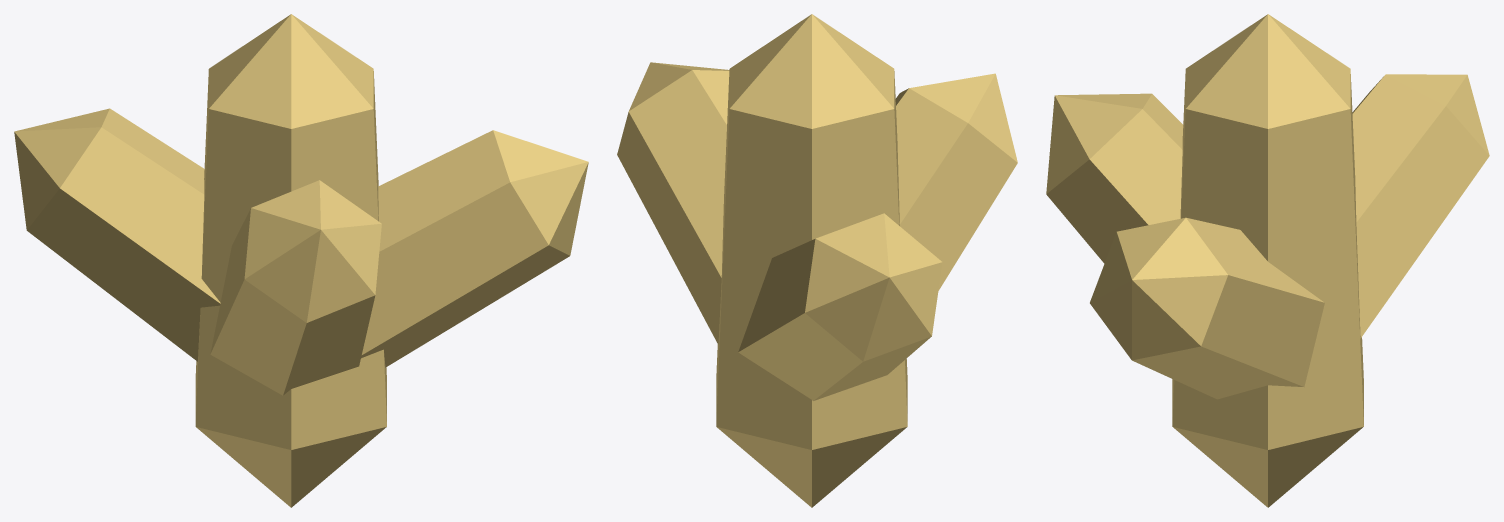
The model's file is cristal_l1.fbx.
The picture shows the model from 3 angles, left to right: view 1: azimuth 30°, elevation 25°; view 2: azimuth 150°, elevation 25°; view 3: azimuth 270°, elevation 25°; orthographic projection.
Visible parts, largest first — view 1: pCylinder5; view 2: pCylinder5; view 3: pCylinder5.
Part boxes in pixels (left/top/right/bottom): pCylinder5: left=14, top=14, right=588, bottom=507; pCylinder5: left=617, top=14, right=1017, bottom=507; pCylinder5: left=1046, top=14, right=1489, bottom=507.
Bounding box in the file's own units: 97.23 × 109 × 88.53.
